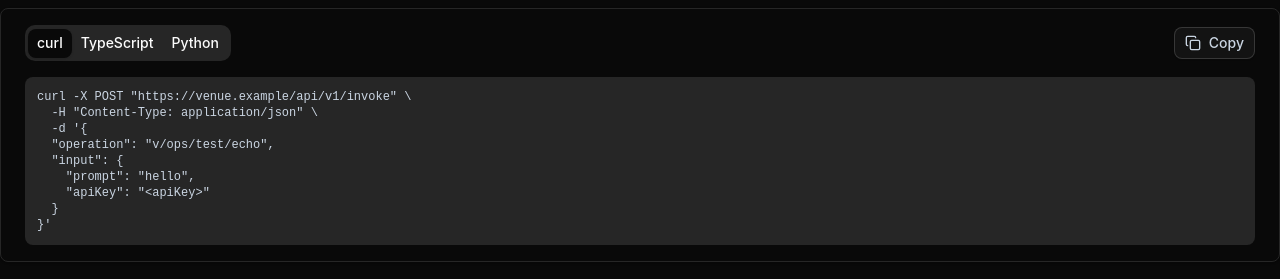
OperationCodeSnippets › switches to the Python tab and shows a covia-package snippet
This screenshot has width=1280, height=279.
Click the tab with test id "snippet-tab-python". click: x=195, y=43
box: [162,28,228,58]
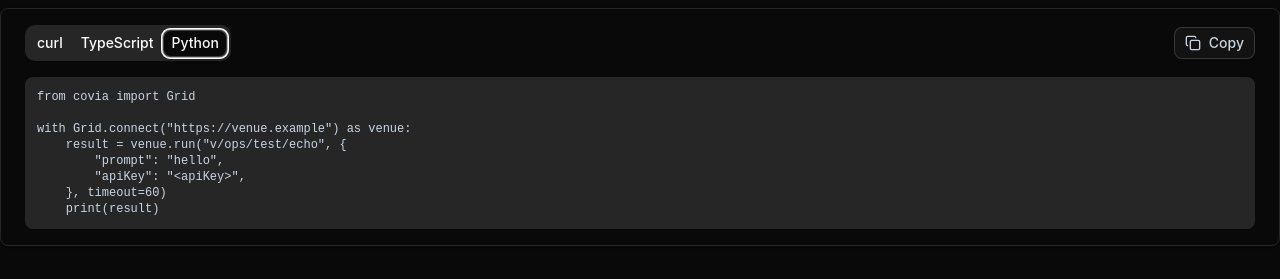
Now the text with test id "snippet-python" shows "from covia import Grid", box [37,90,412,216]
Now the text with test id "snippet-python" shows "venue.run(\"v/ops/test/echo\",", box [37,90,412,216]
